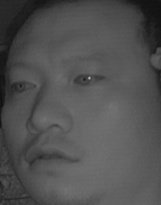eye: (70, 68, 103, 89), (7, 75, 37, 95)
mouth: (24, 141, 77, 172)
